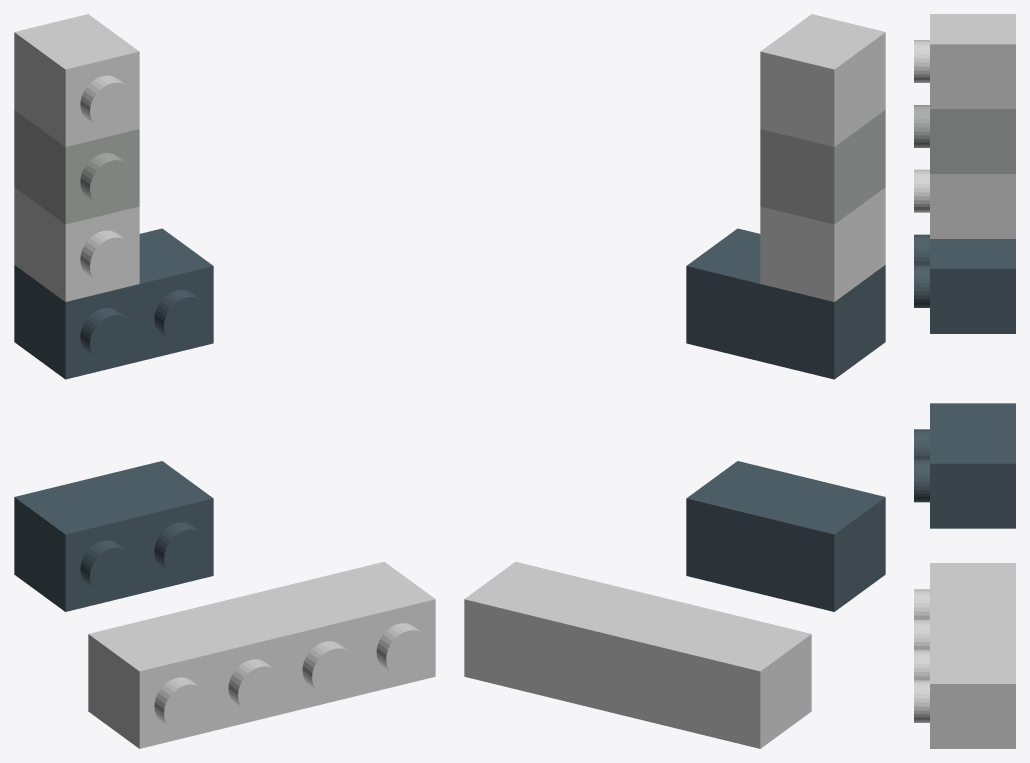
Rendered from current.glb.
3 views of the same model, side by side, from view 1: azimuth 30°, elevation 25°; view 2: azimuth 150°, elevation 25°; view 3: azimuth 270°, elevation 25° (orthographic). The views are drawn at different scales.
Parts seen in each view (by area): view 1: world; view 2: world; view 3: world.
Part boxes in pixels (x1,y1,x2,y2): world: [14, 14, 435, 748]; world: [464, 14, 885, 748]; world: [914, 14, 1015, 748].
Size of the model in its own units: 40 by 72 by 11.4.
